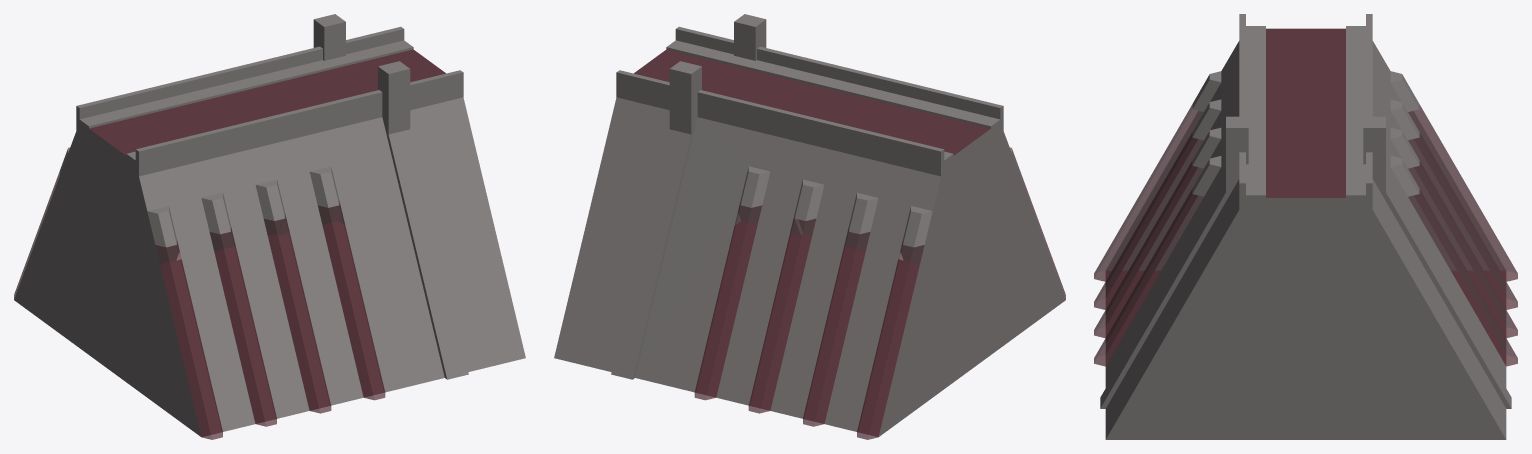
Rendered from dam-branch.fbx.
3 renders of one model, left to right at view 1: azimuth 30°, elevation 25°; view 2: azimuth 150°, elevation 25°; view 3: azimuth 270°, elevation 25°, orthographic. The views are drawn at different scales.
Parts seen in each view (by area): view 1: dam-branch; view 2: dam-branch; view 3: dam-branch.
Boxes of the visible parts, box(x1,y1,x2,y2) form: dam-branch: box(14, 14, 525, 439); dam-branch: box(554, 14, 1065, 439); dam-branch: box(1094, 14, 1517, 439).
Size of the model in its own units: 30 by 23.2 by 31.73.
